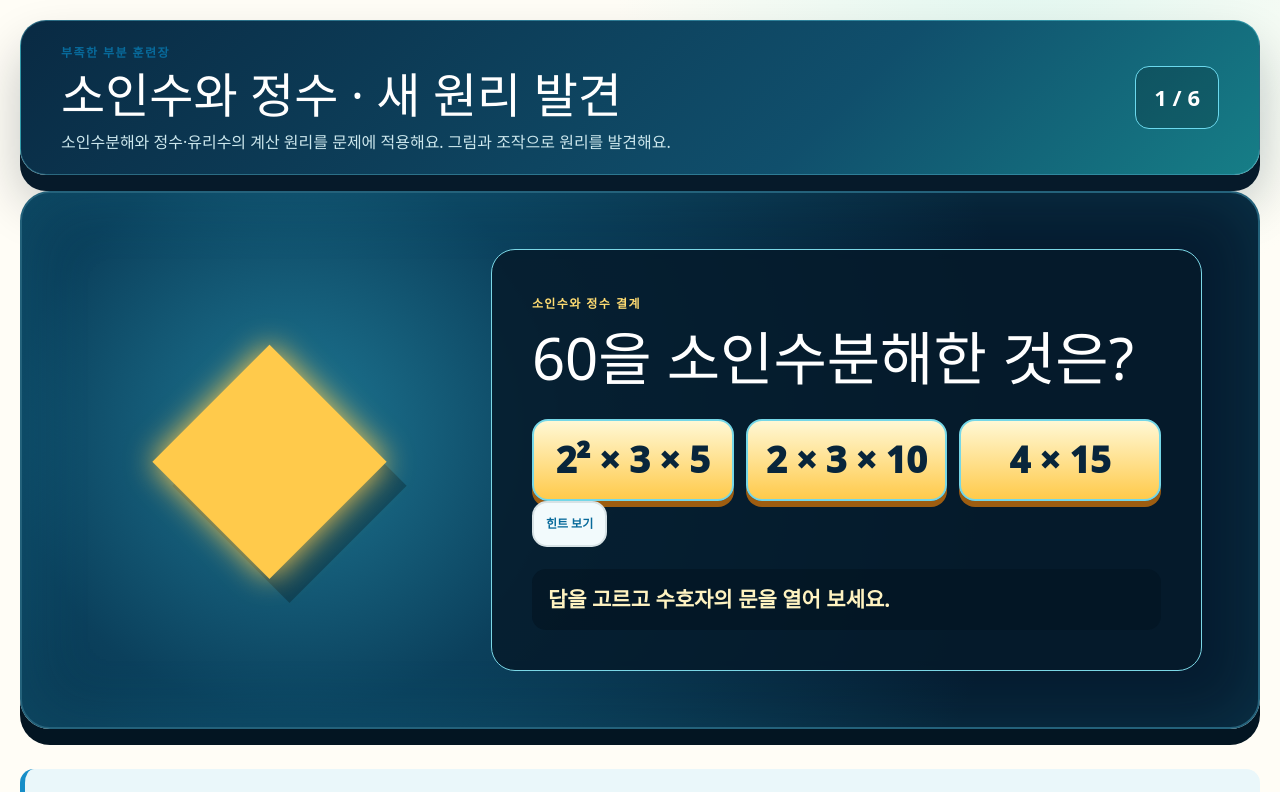
TrainingClient › 중등 재시도는 선택한 답 대신 익명 오답 유형만 세션에 기록한다
Expected: the heading "60을 소인수분해한 것은?" is shown, left=532, top=322, right=1161, bottom=394
Click the button "2 × 3 × 10".
click(846, 460)  # box left=746, top=418, right=947, bottom=500
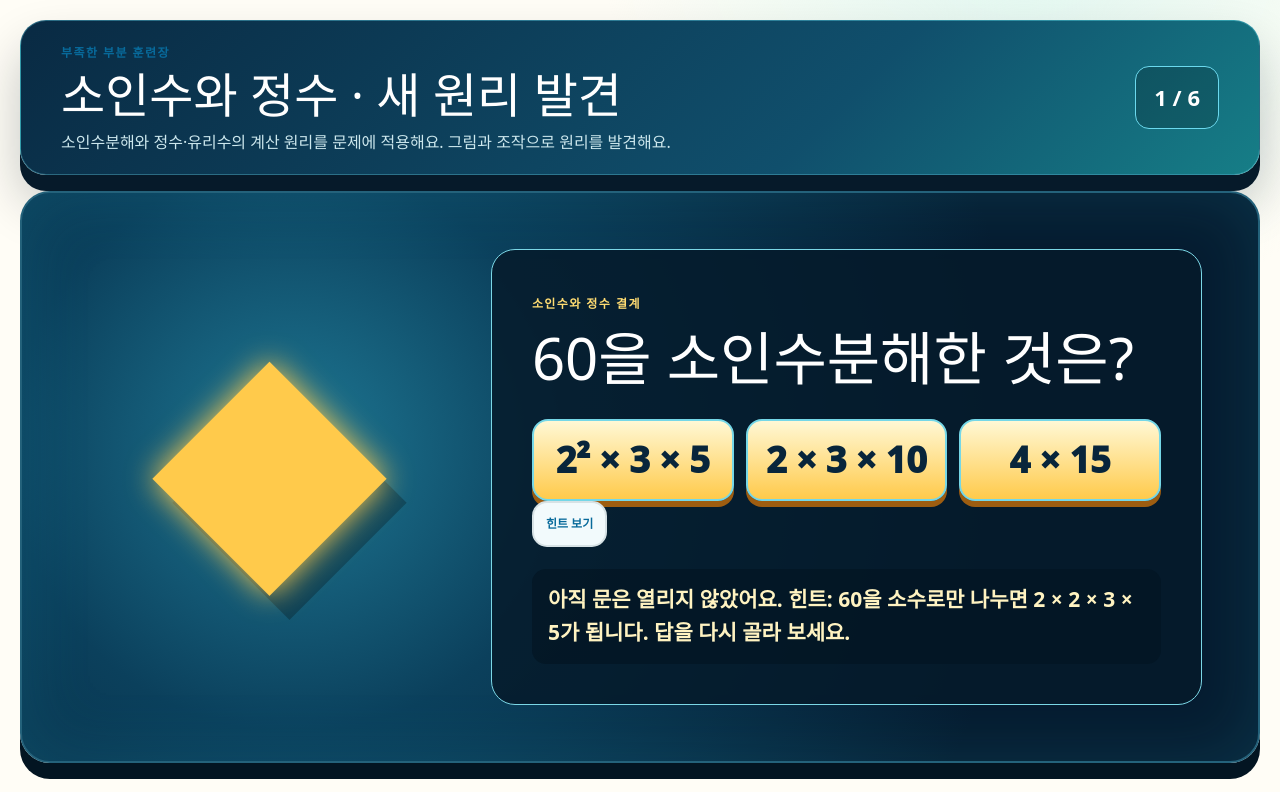
Expected: the text "아직 문은 열리지 않았어요. 힌트: 60을 소수로만 나누면 2 × 2 × 3 × 5가 됩니다. 답을 다시 골라 보세요." is shown, left=532, top=568, right=1161, bottom=664
